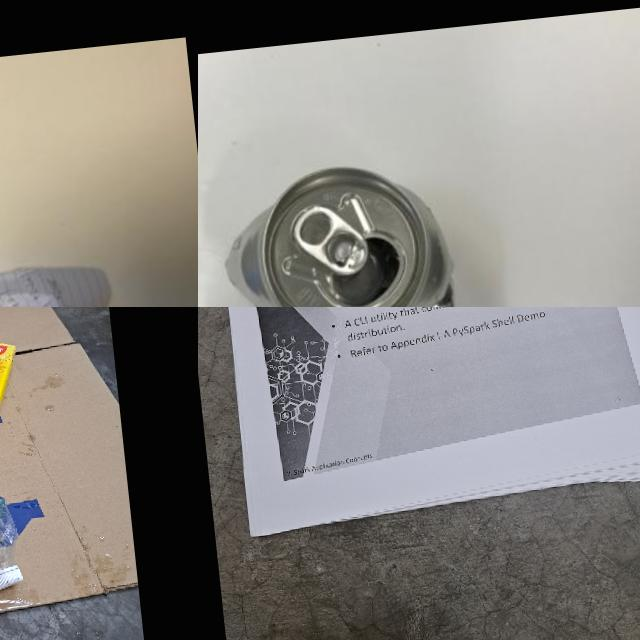aba de lata: (288, 198, 372, 282)
caixinha: (0, 335, 24, 436)
lata: (214, 150, 469, 307)
papel: (209, 307, 640, 540), (0, 131, 122, 307)
papelão: (0, 307, 141, 640)
tampa plástica: (0, 568, 24, 591)
